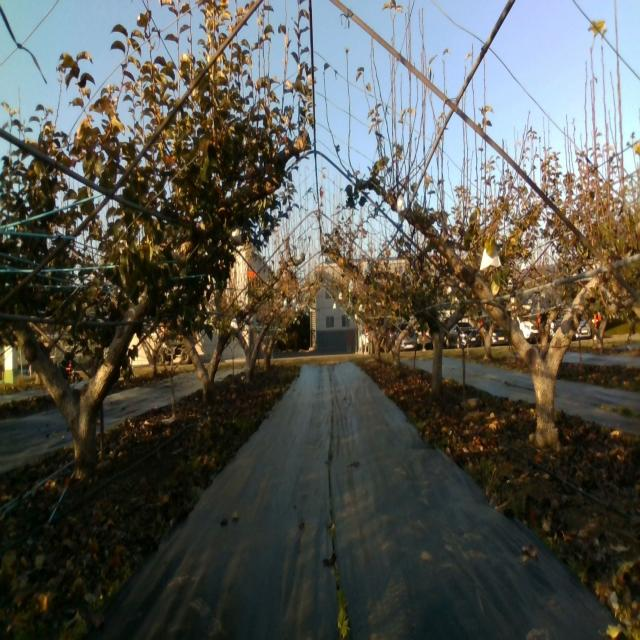pearbags: (479, 247, 501, 271), (229, 220, 242, 243), (396, 194, 406, 223)
